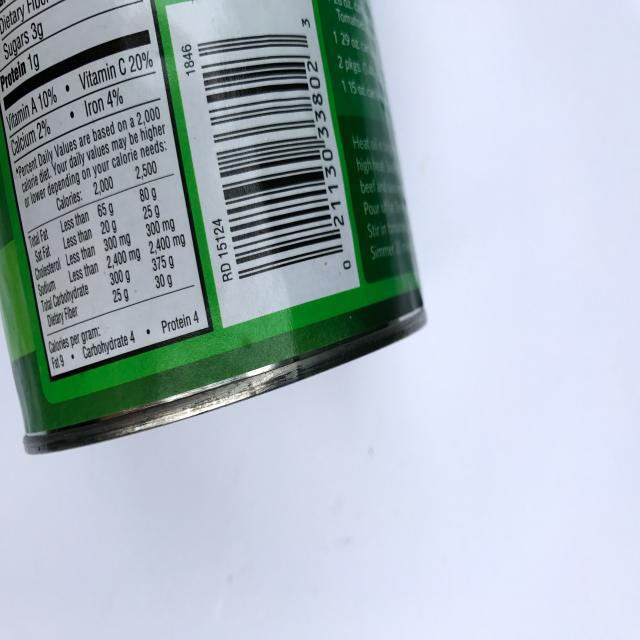metal: (0, 1, 428, 457)
